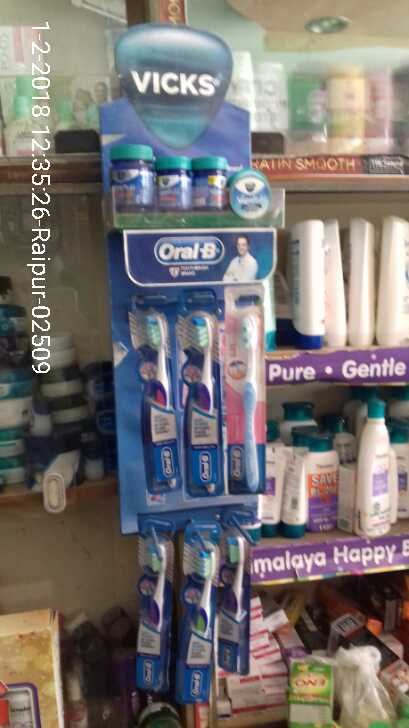pharmacy: (103, 139, 276, 222), (138, 296, 181, 500), (179, 296, 222, 500), (223, 294, 266, 498), (136, 526, 177, 686), (178, 525, 213, 701), (219, 517, 253, 678)
